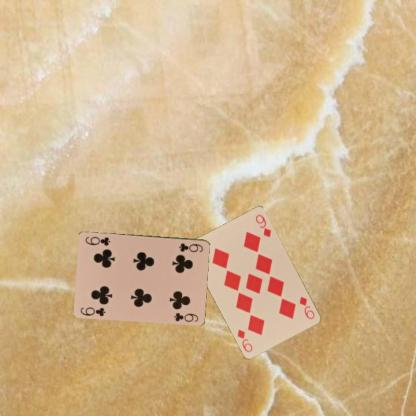6c: (176, 240, 205, 253), (78, 305, 107, 317)
9d: (297, 294, 316, 321)
